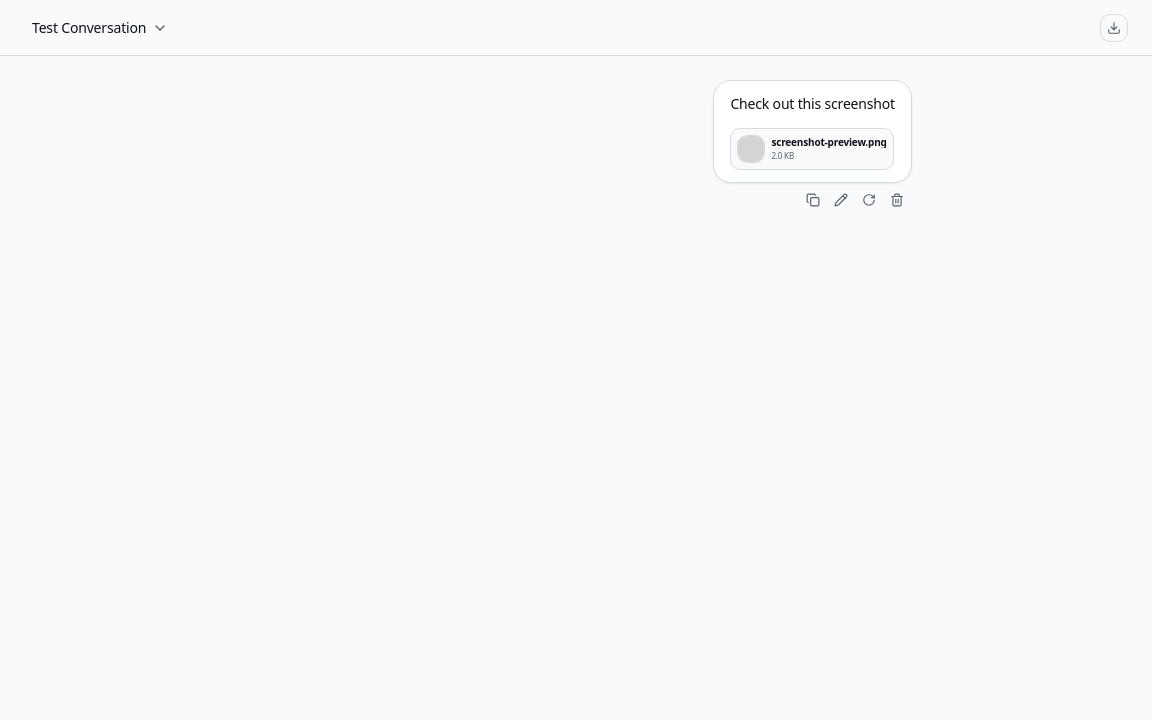
Test: ChatArea Component › opens enlarged ImageModal when clicking on an image attachment in a message
Expected: the text "screenshot-preview.png" is shown, [771, 136, 887, 148]
# Click the attachment button
What coordinates should you click on to do the following:
click the button with aria-label "View enlarged image: screenshot-preview.png"
I would click on:
 (812, 149)
Its box is [730, 128, 894, 170].
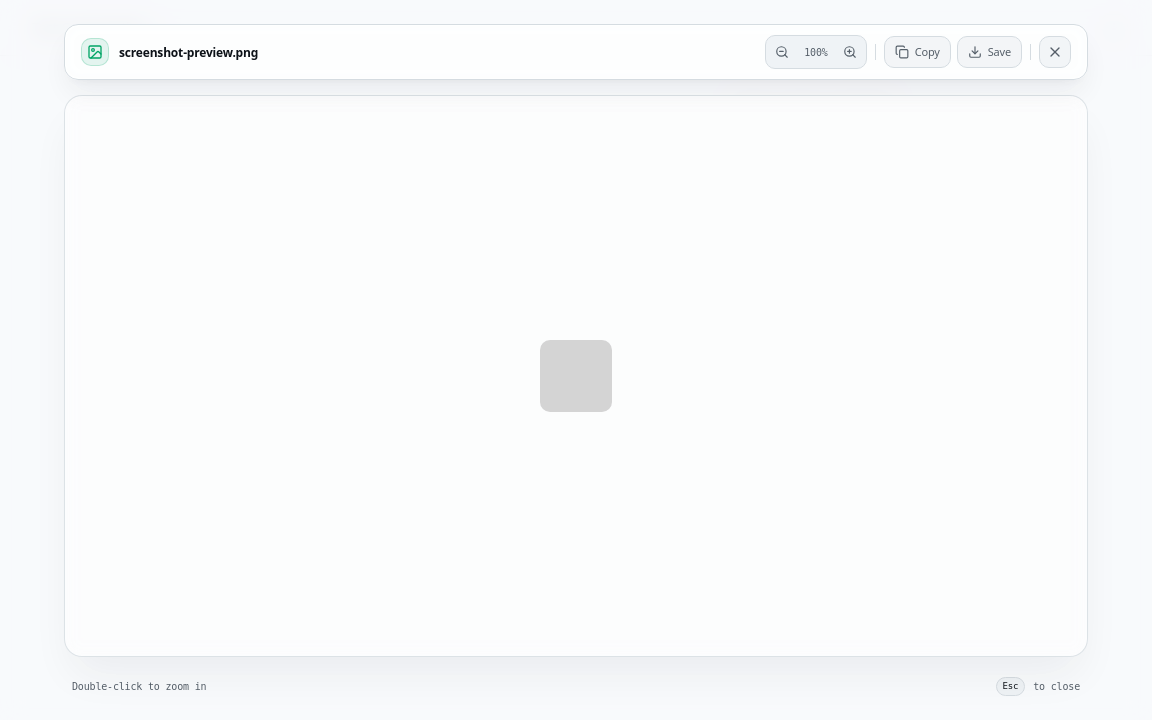
Expected: the dialog is shown
Expected: the text "screenshot-preview.png" is shown, [119, 44, 258, 60]
